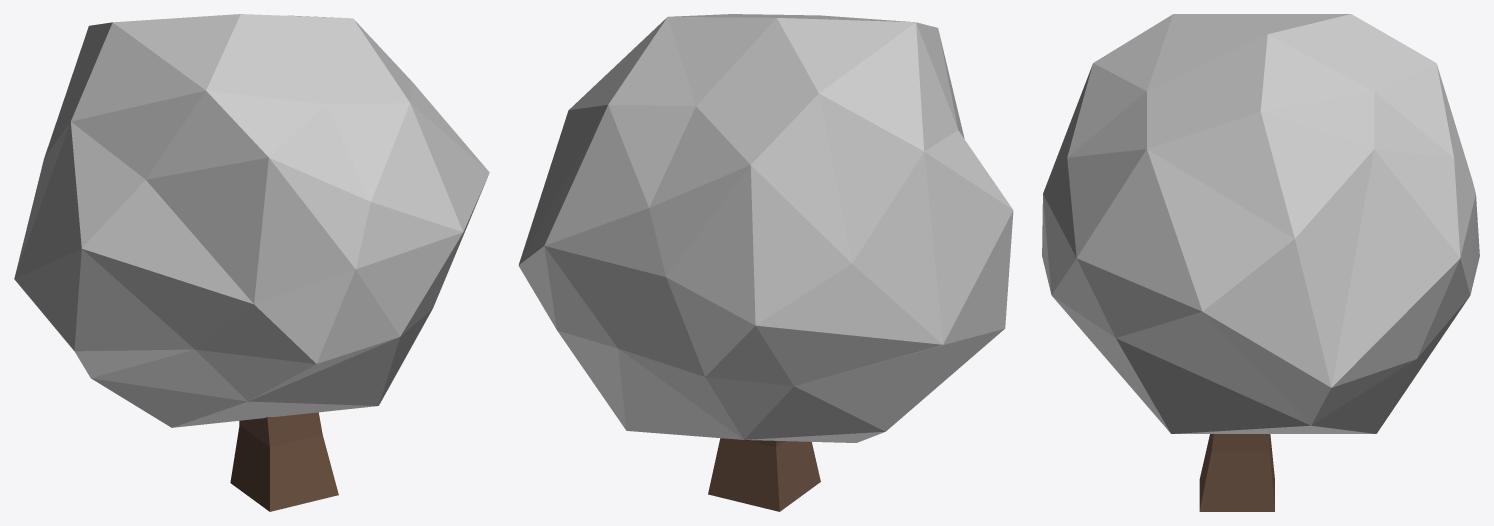
The model's file is Tree_31_White.fbx.
3 renders of one model, left to right at view 1: azimuth 30°, elevation 25°; view 2: azimuth 150°, elevation 25°; view 3: azimuth 270°, elevation 25°, orthographic. The views are drawn at different scales.
Parts seen in each view (by area): view 1: Tree_31_White_Part_1, Tree_31_White_Part_2; view 2: Tree_31_White_Part_1, Tree_31_White_Part_2; view 3: Tree_31_White_Part_1, Tree_31_White_Part_2.
Boxes of the visible parts, <box> form: Tree_31_White_Part_1: <box>14,14,489,427</box>; Tree_31_White_Part_2: <box>230,412,338,511</box>; Tree_31_White_Part_1: <box>518,14,1013,442</box>; Tree_31_White_Part_2: <box>708,438,820,511</box>; Tree_31_White_Part_1: <box>1042,14,1479,433</box>; Tree_31_White_Part_2: <box>1199,434,1274,511</box>.
Size of the model in its own units: 732 by 807 by 713.
